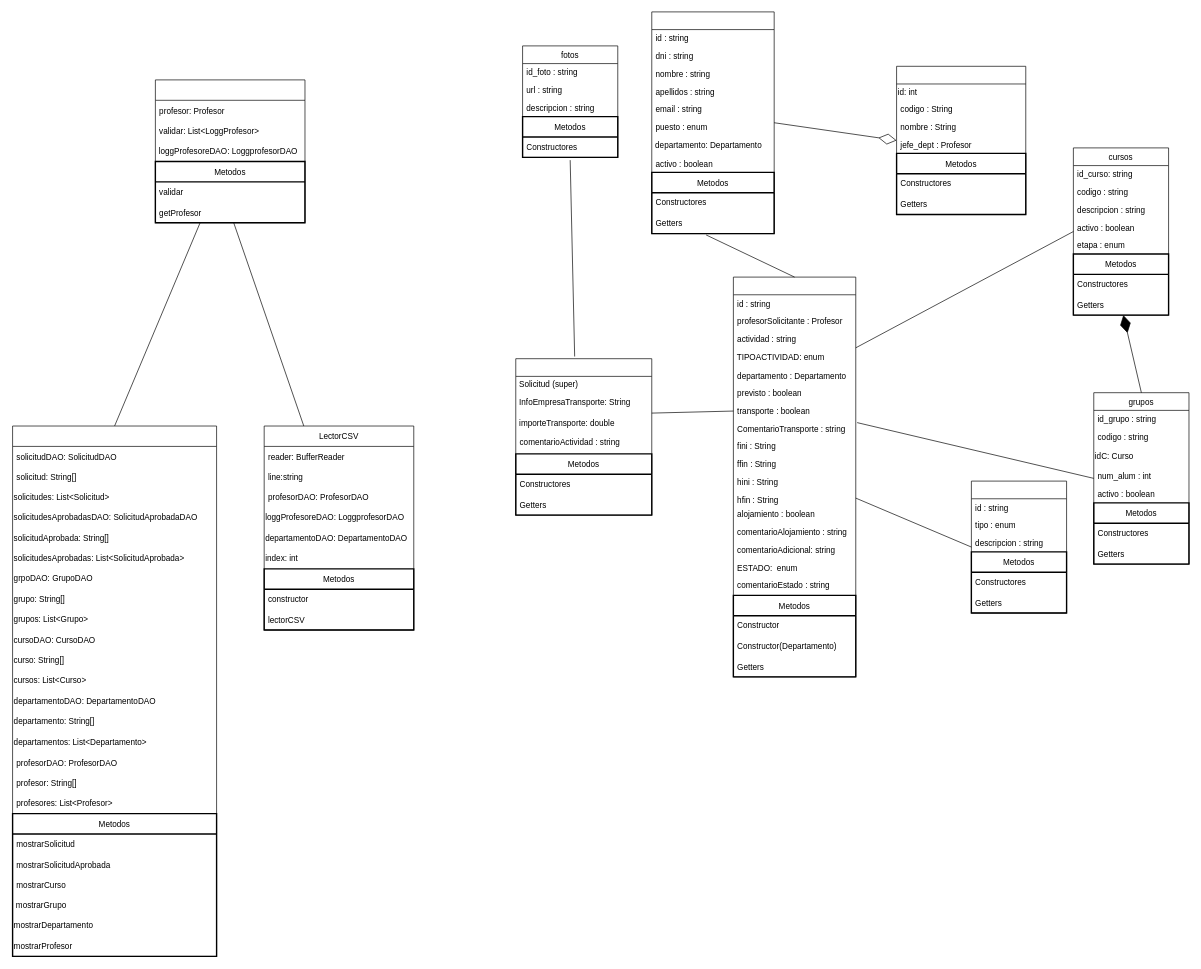
Image size: 1201x969. Some labels were removed from this diagram. The shapes that lost their labels are listed below. From the top down, each one's box as (x1, y1, x2, y2) in pixels, then its label:
(651, 11, 774, 234): profesor
(896, 66, 1026, 215): departamentos
(155, 79, 305, 223): Loggin
(515, 358, 652, 515): SolicitudAprobada
(733, 276, 856, 677): Solicitud
(971, 480, 1067, 613): transportes
(12, 425, 217, 956): MostrarTabla
